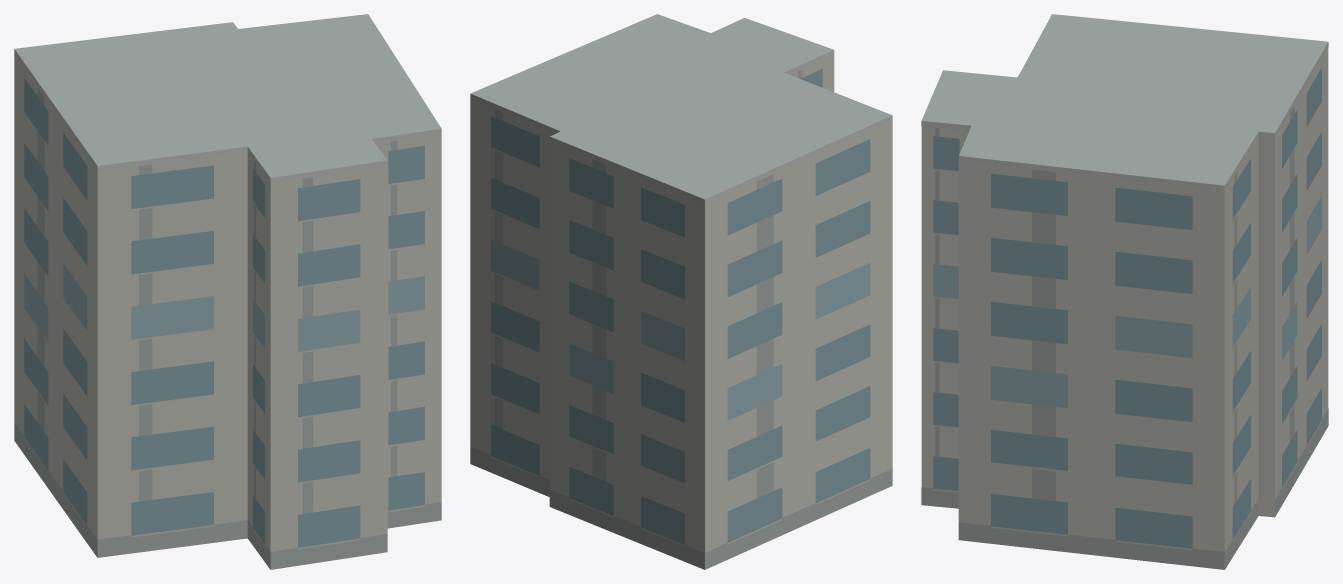
Rendered from survey-upis-32820946.glb.
The picture shows the model from 3 angles, left to right: view 1: azimuth 30°, elevation 25°; view 2: azimuth 150°, elevation 25°; view 3: azimuth 270°, elevation 25°; orthographic projection. The views are drawn at different scales.
Visible parts, largest first — view 1: survey-upis-32820946.tmp; view 2: survey-upis-32820946.tmp; view 3: survey-upis-32820946.tmp.
Part boxes in pixels (x1,y1,x2,y2): survey-upis-32820946.tmp: (14, 14, 441, 569); survey-upis-32820946.tmp: (470, 14, 892, 569); survey-upis-32820946.tmp: (921, 14, 1328, 569).
Size of the model in its own units: 16.3 by 17 by 16.33.
